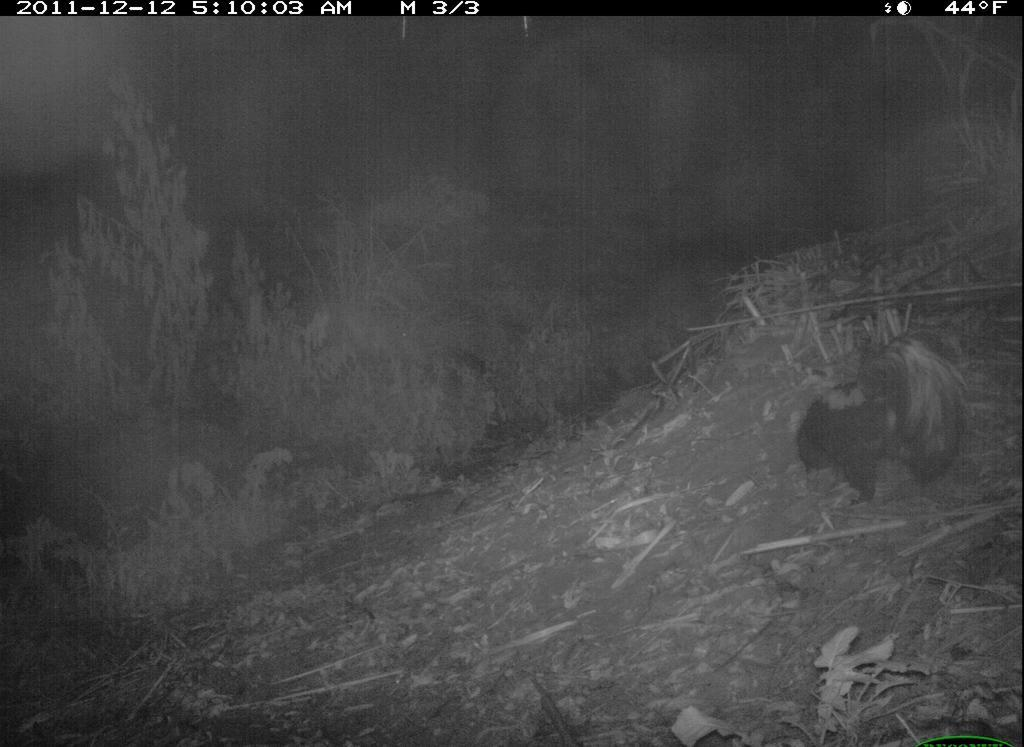skunk: (784, 324, 978, 518)
